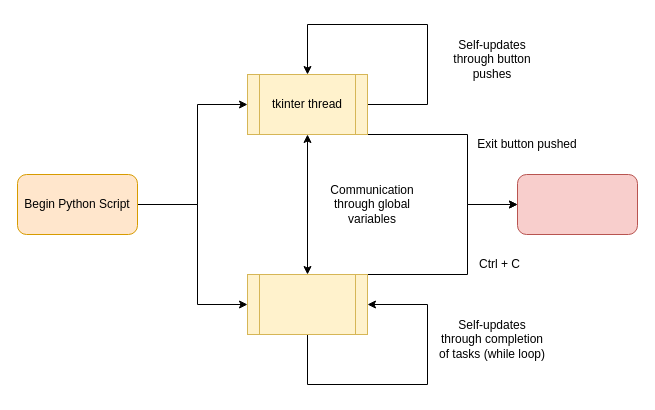
This 655x410 diagram has some shape labels left out. The shapes that lost their labels are listed below. From the top down, each one's centre as x and y in pixels, then its label:
At point 577,204: "Termination of script".
At point 307,304: "while(True): loop".
